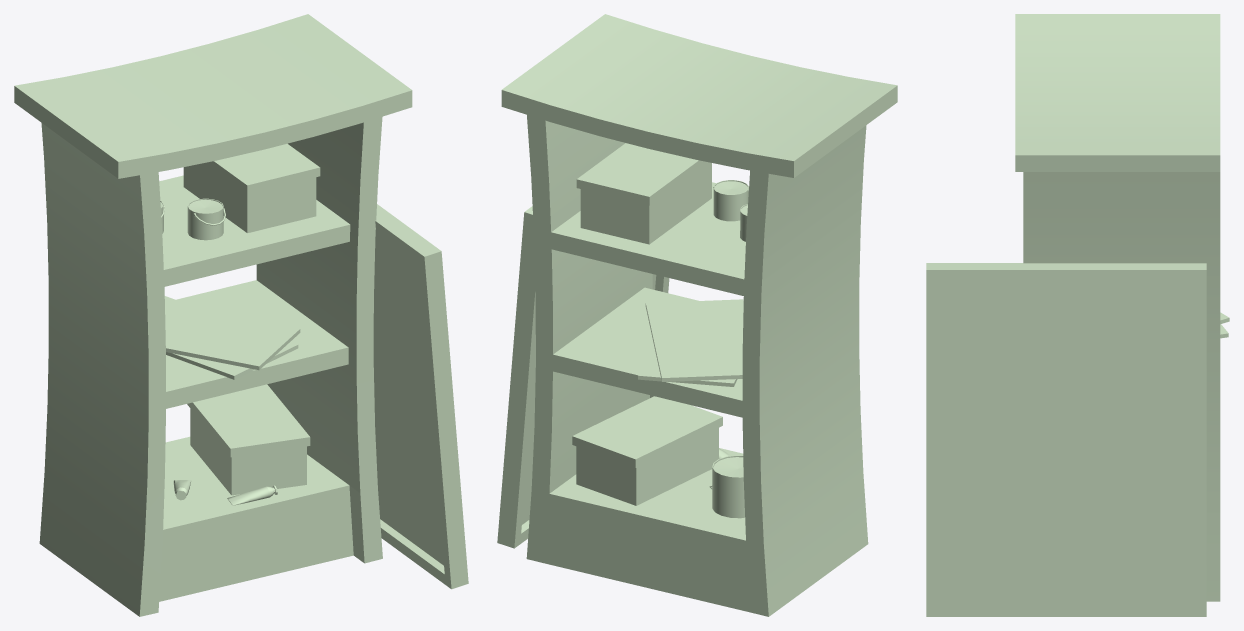
Rendered from étagère.glb.
The picture shows the model from 3 angles, left to right: view 1: azimuth 30°, elevation 25°; view 2: azimuth 150°, elevation 25°; view 3: azimuth 270°, elevation 25°; orthographic projection.
Visible parts, largest first — view 1: Object002; view 2: Object002; view 3: Object002.
Part boxes in pixels (x1,y1,x2,y2): Object002: (14,14,468,616); Object002: (497,14,897,616); Object002: (926,14,1229,616).
Size of the model in its own units: 1.27 by 1.85 by 1.11.
